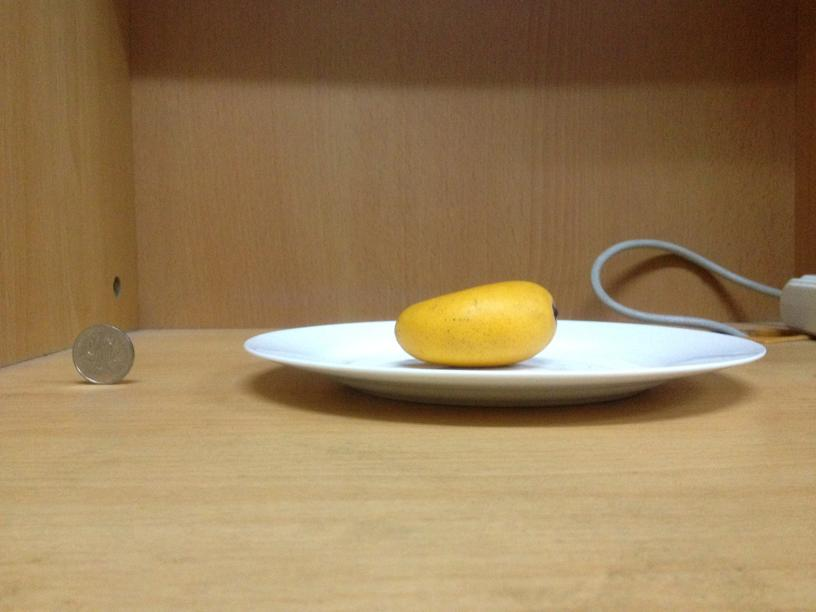coin: (69, 323, 134, 385)
mango: (394, 277, 556, 364)
